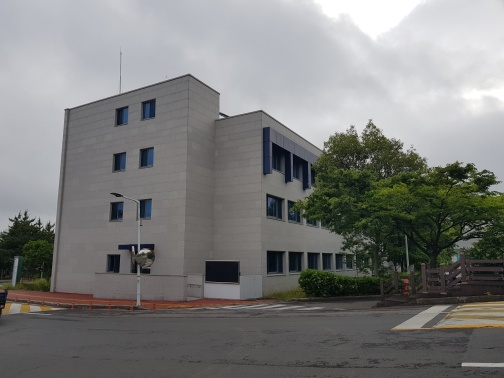College of Social Sciences: (48, 75, 367, 296)
